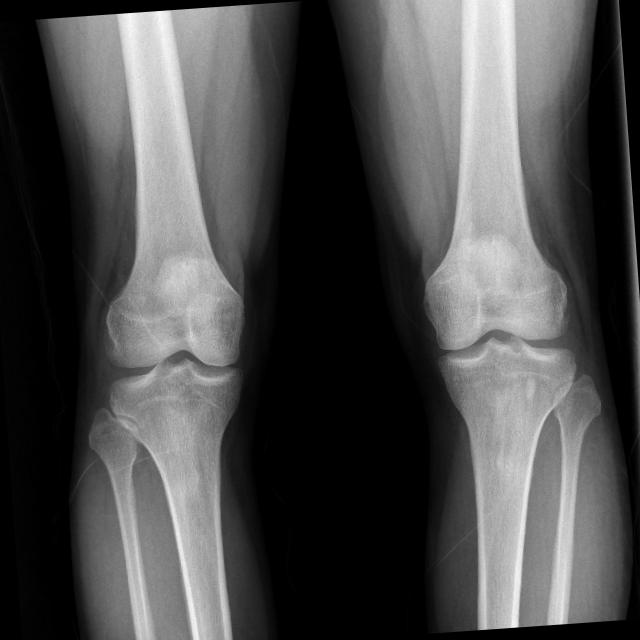Knee: (422, 272, 579, 410), (102, 297, 254, 422)
